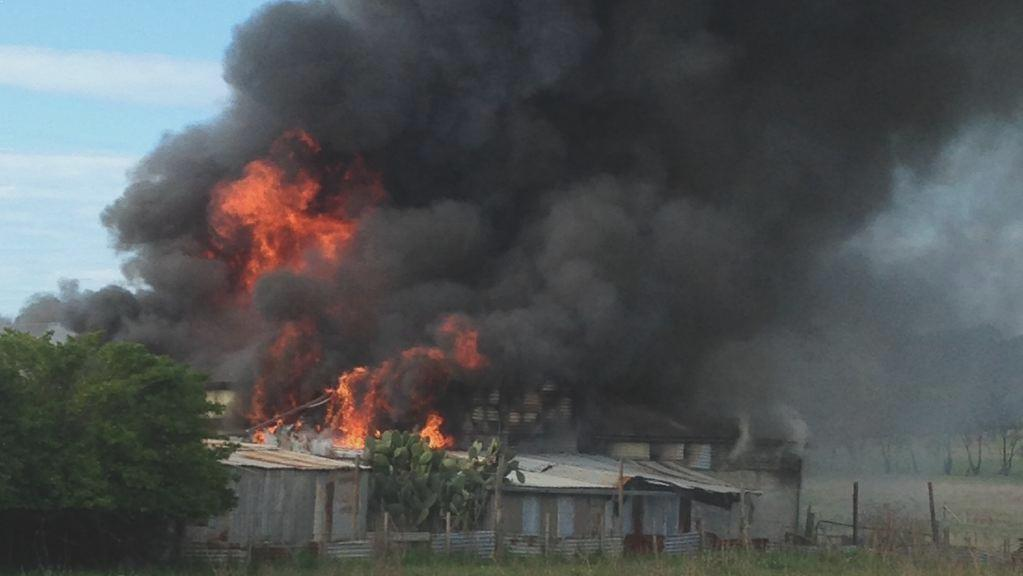fire: (191, 124, 366, 300), (324, 332, 480, 447), (242, 373, 290, 441), (419, 408, 448, 448)
